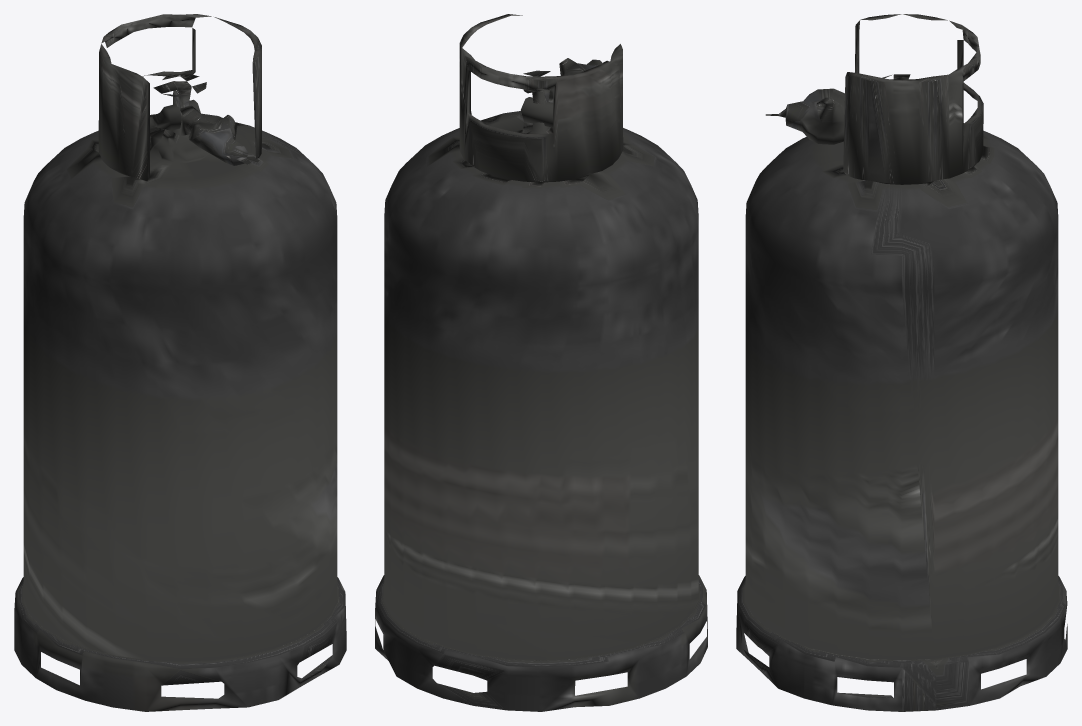
Rendered from gas_cylinder.glb.
The picture shows the model from 3 angles, left to right: view 1: azimuth 30°, elevation 25°; view 2: azimuth 150°, elevation 25°; view 3: azimuth 270°, elevation 25°; orthographic projection.
Visible parts, largest first — view 1: gas_cylinder; view 2: gas_cylinder; view 3: gas_cylinder.
Part boxes in pixels (left/top/right/bottom): gas_cylinder: left=14, top=14, right=346, bottom=711; gas_cylinder: left=375, top=14, right=707, bottom=711; gas_cylinder: left=736, top=14, right=1067, bottom=711.
Size of the model in its own units: 0.6608 by 1.3 by 0.6571.
1 material, 1 textured.
